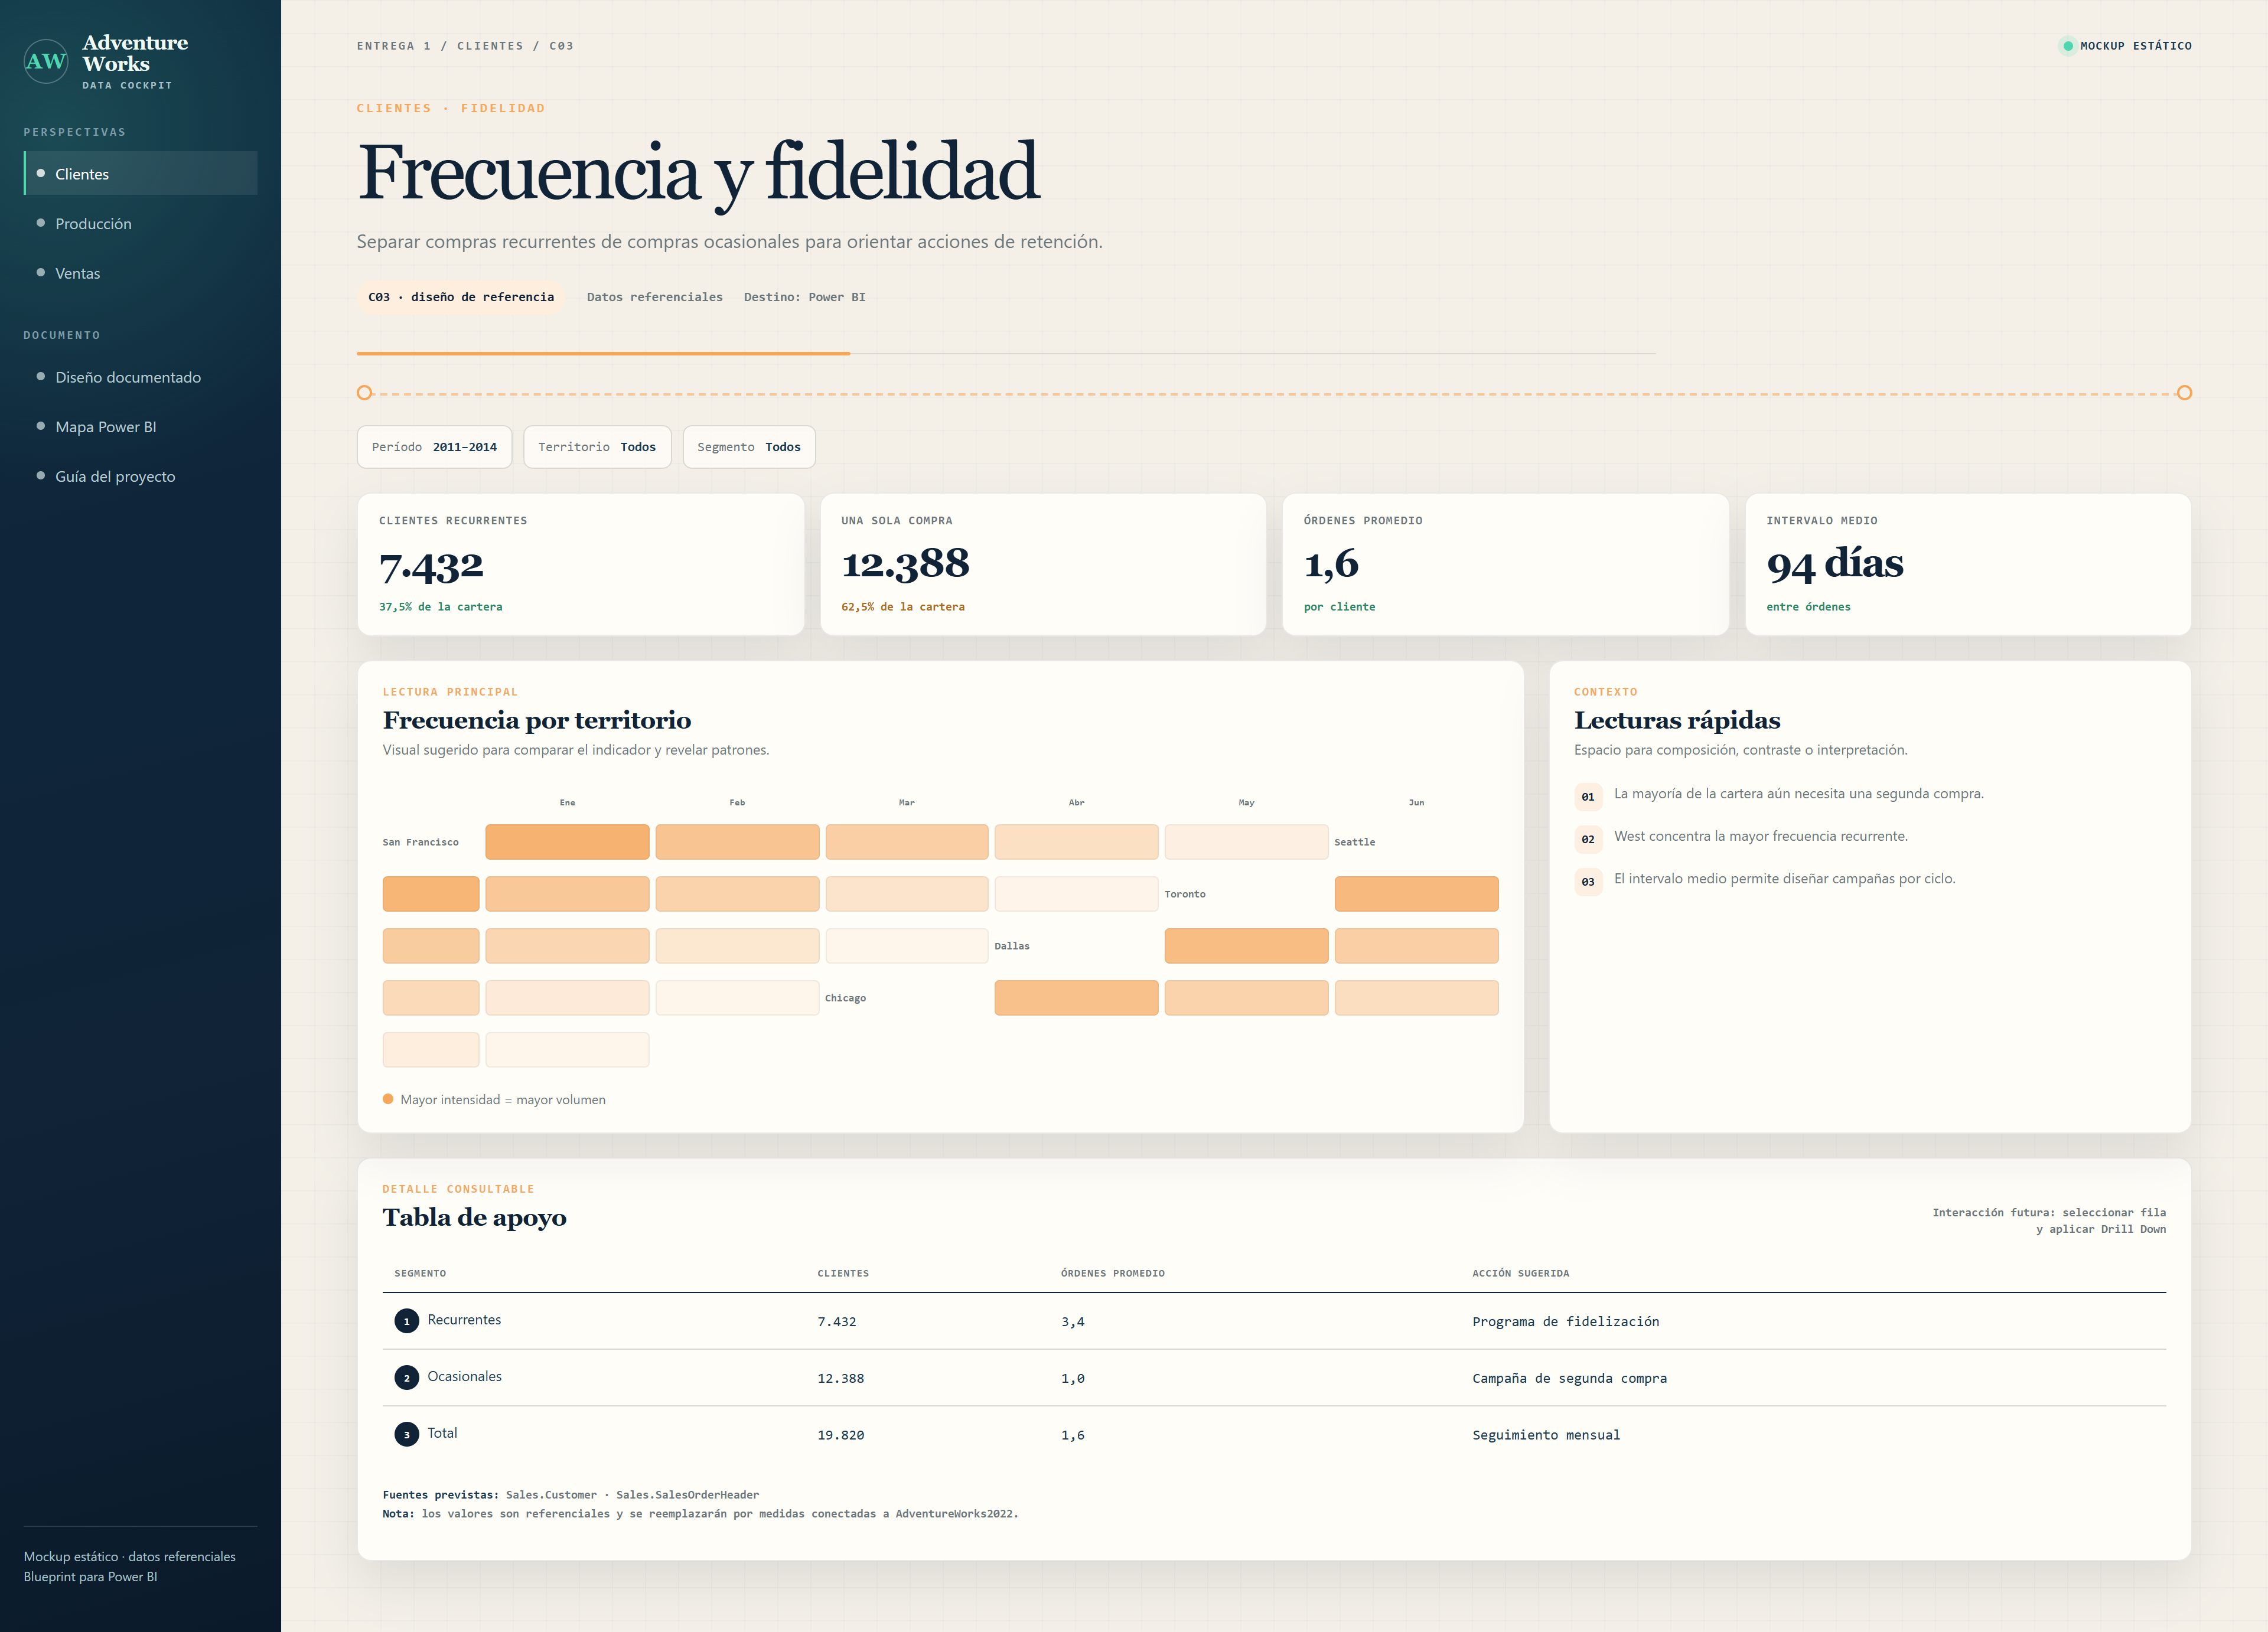

The page's visual inventory and layout, read from the dashboard file:
{"tool":"powerbi","page":{"name":"C03 · Frecuencia de clientes","canvas":[1920,1080],"ordinal":2},"visuals":[{"type":"pivotTable","title":"Clientes por territorio y frecuencia","fields":{"Columns":["rpt C03_FrecuenciaClientes.Segmento"],"Rows":["rpt C03_FrecuenciaClientes.TerritoryName","rpt C03_FrecuenciaClientes.CustomerName"],"Values":["Count(rpt C03_FrecuenciaClientes.CustomerKey)"]},"box":[29.6,254.8,572.1,422.5],"z":0},{"type":"clusteredBarChart","title":"Clientes por frecuencia de compra","fields":{"Category":["rpt C03_FrecuenciaClientes.Segmento"],"Y":["CountNonNull(rpt C03_FrecuenciaClientes.CustomerKey)"]},"box":[29.6,701.9,545.8,309],"z":1000},{"type":"cardVisual","title":"Clientes recurrentes","fields":{"Data":["CountNonNull(rpt C03_FrecuenciaClientes.CustomerKey)"]},"box":[29.6,23,249.9,152.9],"z":2000},{"type":"cardVisual","title":"Una compra","fields":{"Data":["CountNonNull(rpt C03_FrecuenciaClientes.CustomerKey)"]},"box":[302.5,23,241.6,152.9],"z":3000},{"type":"cardVisual","title":"Sin compras","fields":{"Data":["CountNonNull(rpt C03_FrecuenciaClientes.CustomerKey)"]},"box":[575.3,23,230.1,152.9],"z":4000},{"type":"cardVisual","title":"Órdenes promedio por cliente","fields":{"Data":["rpt C03_FrecuenciaClientes.Órdenes promedio por cliente"]},"box":[840,23,258.1,152.9],"z":5000},{"type":"slicer","fields":{"Values":["rpt C03_FrecuenciaClientes.TerritoryName"]},"box":[771,254.8,276.2,422.5],"z":6000},{"type":"slicer","fields":{"Values":["rpt C03_FrecuenciaClientes.Segmento"]},"box":[1098.1,254.8,258,153],"z":7000}]}

Visuals, with their boxes on the page's 1920x1080 design canvas (x1, y1, x2, y2). These are canvas units, not pixel positions in the 2268x1632 screenshot, which may show the page scaled, cropped or inside an application window:
"Clientes por territorio y frecuencia" pivotTable: {"x1": 30, "y1": 255, "x2": 602, "y2": 677}
"Clientes por frecuencia de compra" clusteredBarChart: {"x1": 30, "y1": 702, "x2": 575, "y2": 1011}
"Clientes recurrentes" cardVisual: {"x1": 30, "y1": 23, "x2": 280, "y2": 176}
"Una compra" cardVisual: {"x1": 302, "y1": 23, "x2": 544, "y2": 176}
"Sin compras" cardVisual: {"x1": 575, "y1": 23, "x2": 805, "y2": 176}
"Órdenes promedio por cliente" cardVisual: {"x1": 840, "y1": 23, "x2": 1098, "y2": 176}
slicer - rpt C03_FrecuenciaClientes.TerritoryName: {"x1": 771, "y1": 255, "x2": 1047, "y2": 677}
slicer - rpt C03_FrecuenciaClientes.Segmento: {"x1": 1098, "y1": 255, "x2": 1356, "y2": 408}
